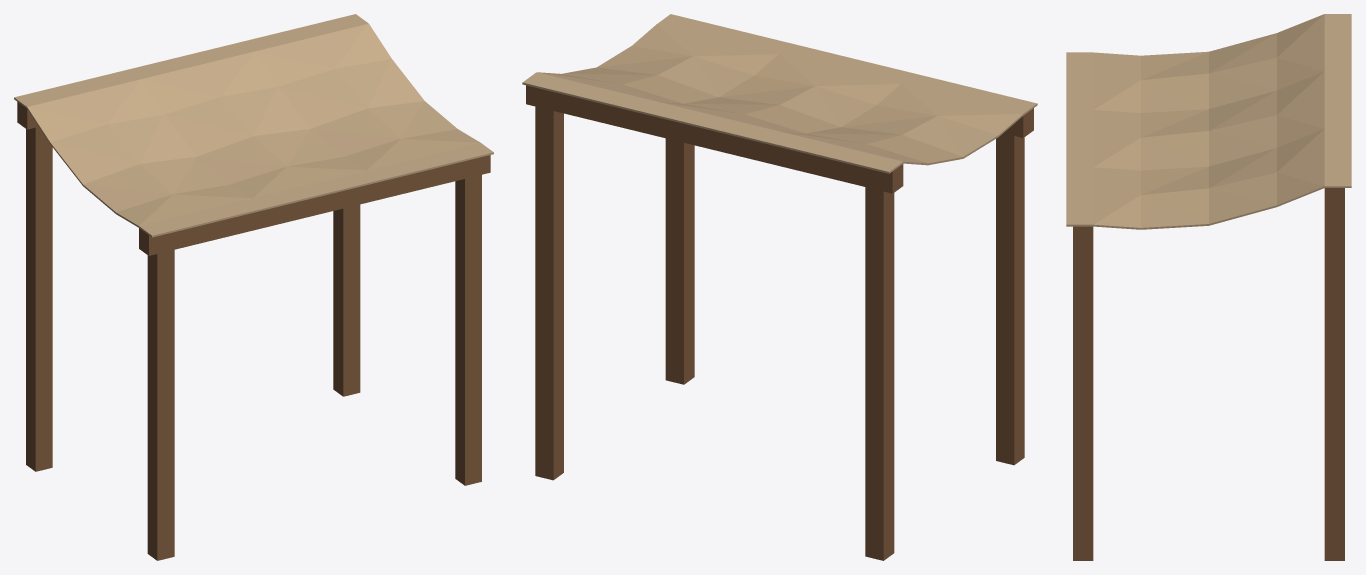
3 views of the same model, side by side, from view 1: azimuth 30°, elevation 25°; view 2: azimuth 150°, elevation 25°; view 3: azimuth 270°, elevation 25° (orthographic). The views are drawn at different scales.
Visible parts, largest first — view 1: village-draped-cloth-awning-01; view 2: village-draped-cloth-awning-01; view 3: village-draped-cloth-awning-01.
Boxes of the visible parts, <box> form: village-draped-cloth-awning-01: <box>14,14,493,560</box>; village-draped-cloth-awning-01: <box>522,14,1037,560</box>; village-draped-cloth-awning-01: <box>1066,14,1351,560</box>.
Size of the model in its own units: 2.4 by 2.46 by 1.68.
